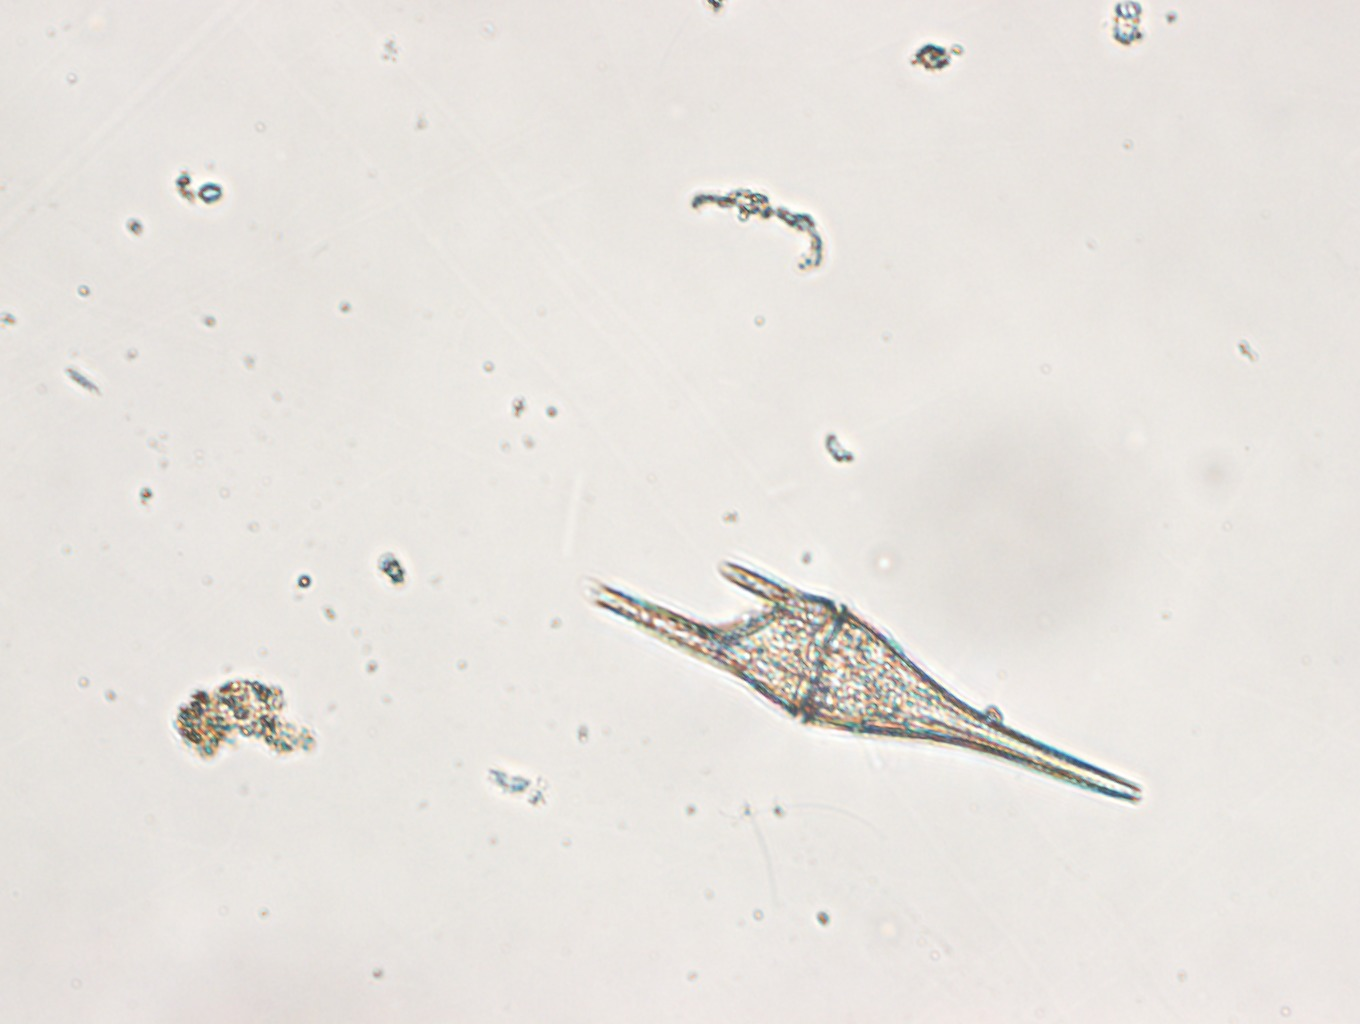ceratium furca: (586, 553, 1149, 808)
